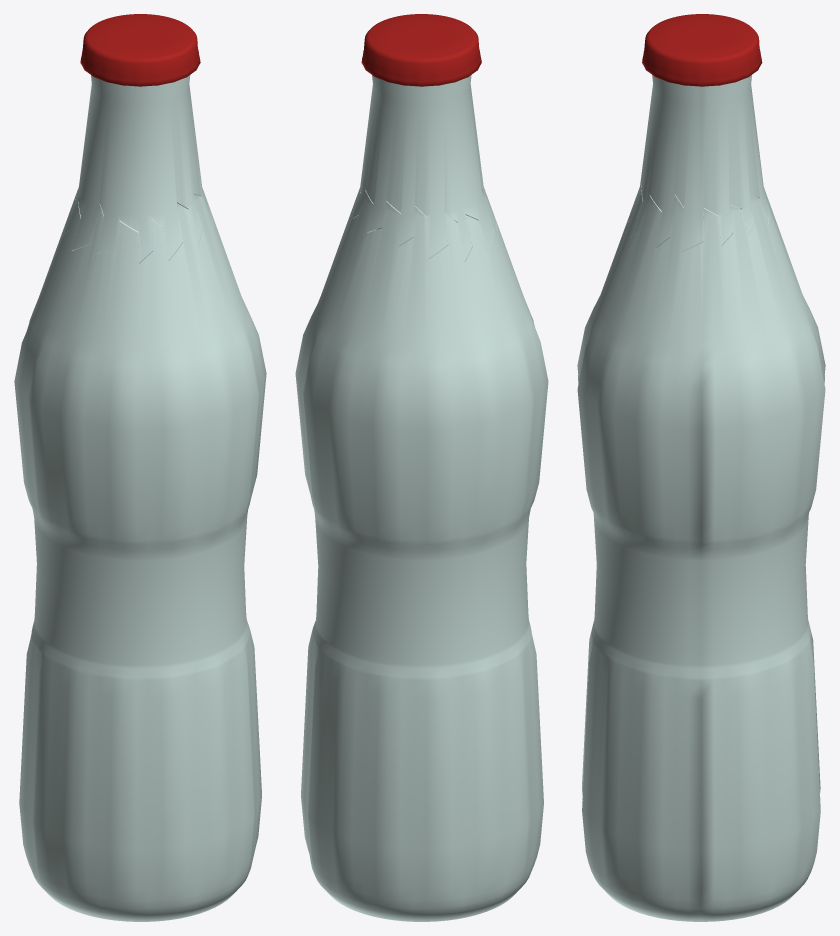
Rendered from bottle_contour_broken.glb.
The picture shows the model from 3 angles, left to right: view 1: azimuth 30°, elevation 25°; view 2: azimuth 150°, elevation 25°; view 3: azimuth 270°, elevation 25°; orthographic projection.
Parts seen in each view (by area): view 1: Glass.001, Neck, Cap; view 2: Glass.001, Neck, Cap; view 3: Glass.001, Neck, Cap.
Boxes of the visible parts, left/top/right/bottom form: Glass.001: left=14, top=187, right=266, bottom=921; Neck: left=63, top=75, right=213, bottom=262; Cap: left=80, top=14, right=200, bottom=86; Glass.001: left=295, top=182, right=548, bottom=921; Neck: left=353, top=75, right=496, bottom=261; Cap: left=361, top=14, right=481, bottom=86; Glass.001: left=577, top=183, right=825, bottom=921; Neck: left=626, top=75, right=769, bottom=251; Cap: left=642, top=14, right=762, bottom=86.
Size of the model in its own units: 0.0632 by 0.233 by 0.062.
